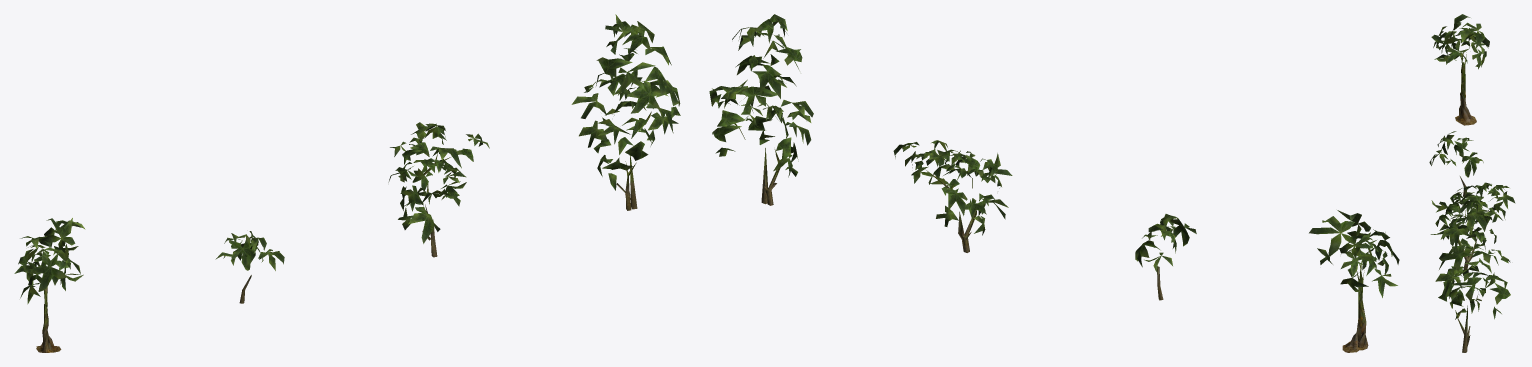
File: pachira.glb
The picture shows the model from 3 angles, left to right: view 1: azimuth 30°, elevation 25°; view 2: azimuth 150°, elevation 25°; view 3: azimuth 270°, elevation 25°; orthographic projection. The views are drawn at different scales.
Parts seen in each view (by area): view 1: pachira_aquatica_01_leaves_d, pachira_aquatica_01_leaves_c, pachira_aquatica_01_leaves_a, pachira_aquatica_01_leaves_b; view 2: pachira_aquatica_01_leaves_d, pachira_aquatica_01_leaves_c, pachira_aquatica_01_leaves_a, pachira_aquatica_01_leaves_b, pachira_aquatica_01_bark_a; view 3: pachira_aquatica_01_leaves_d, pachira_aquatica_01_leaves_c, pachira_aquatica_01_leaves_a, pachira_aquatica_01_leaves_b, pachira_aquatica_01_bark_a, pachira_aquatica_01_bark_d, pachira_aquatica_01_bark_c.
Part boxes in pixels (x1,y1,x2,y2): pachira_aquatica_01_leaves_d: (571, 14, 680, 190); pachira_aquatica_01_leaves_c: (388, 122, 489, 243); pachira_aquatica_01_leaves_a: (14, 218, 85, 304); pachira_aquatica_01_leaves_b: (215, 231, 284, 270); pachira_aquatica_01_leaves_d: (709, 14, 813, 177); pachira_aquatica_01_leaves_c: (893, 140, 1012, 235); pachira_aquatica_01_leaves_a: (1309, 210, 1399, 297); pachira_aquatica_01_leaves_b: (1135, 214, 1196, 271); pachira_aquatica_01_bark_a: (1342, 261, 1368, 352); pachira_aquatica_01_leaves_d: (1430, 192, 1510, 319); pachira_aquatica_01_leaves_c: (1431, 182, 1515, 245); pachira_aquatica_01_leaves_a: (1431, 14, 1489, 69); pachira_aquatica_01_leaves_b: (1429, 131, 1483, 177); pachira_aquatica_01_bark_a: (1455, 52, 1476, 125); pachira_aquatica_01_bark_d: (1455, 294, 1481, 352); pachira_aquatica_01_bark_c: (1458, 210, 1488, 269).
Bounding box in the file's own units: 6.84 × 1.89 × 0.9873.
Materials: 2 (2 with a texture image).
